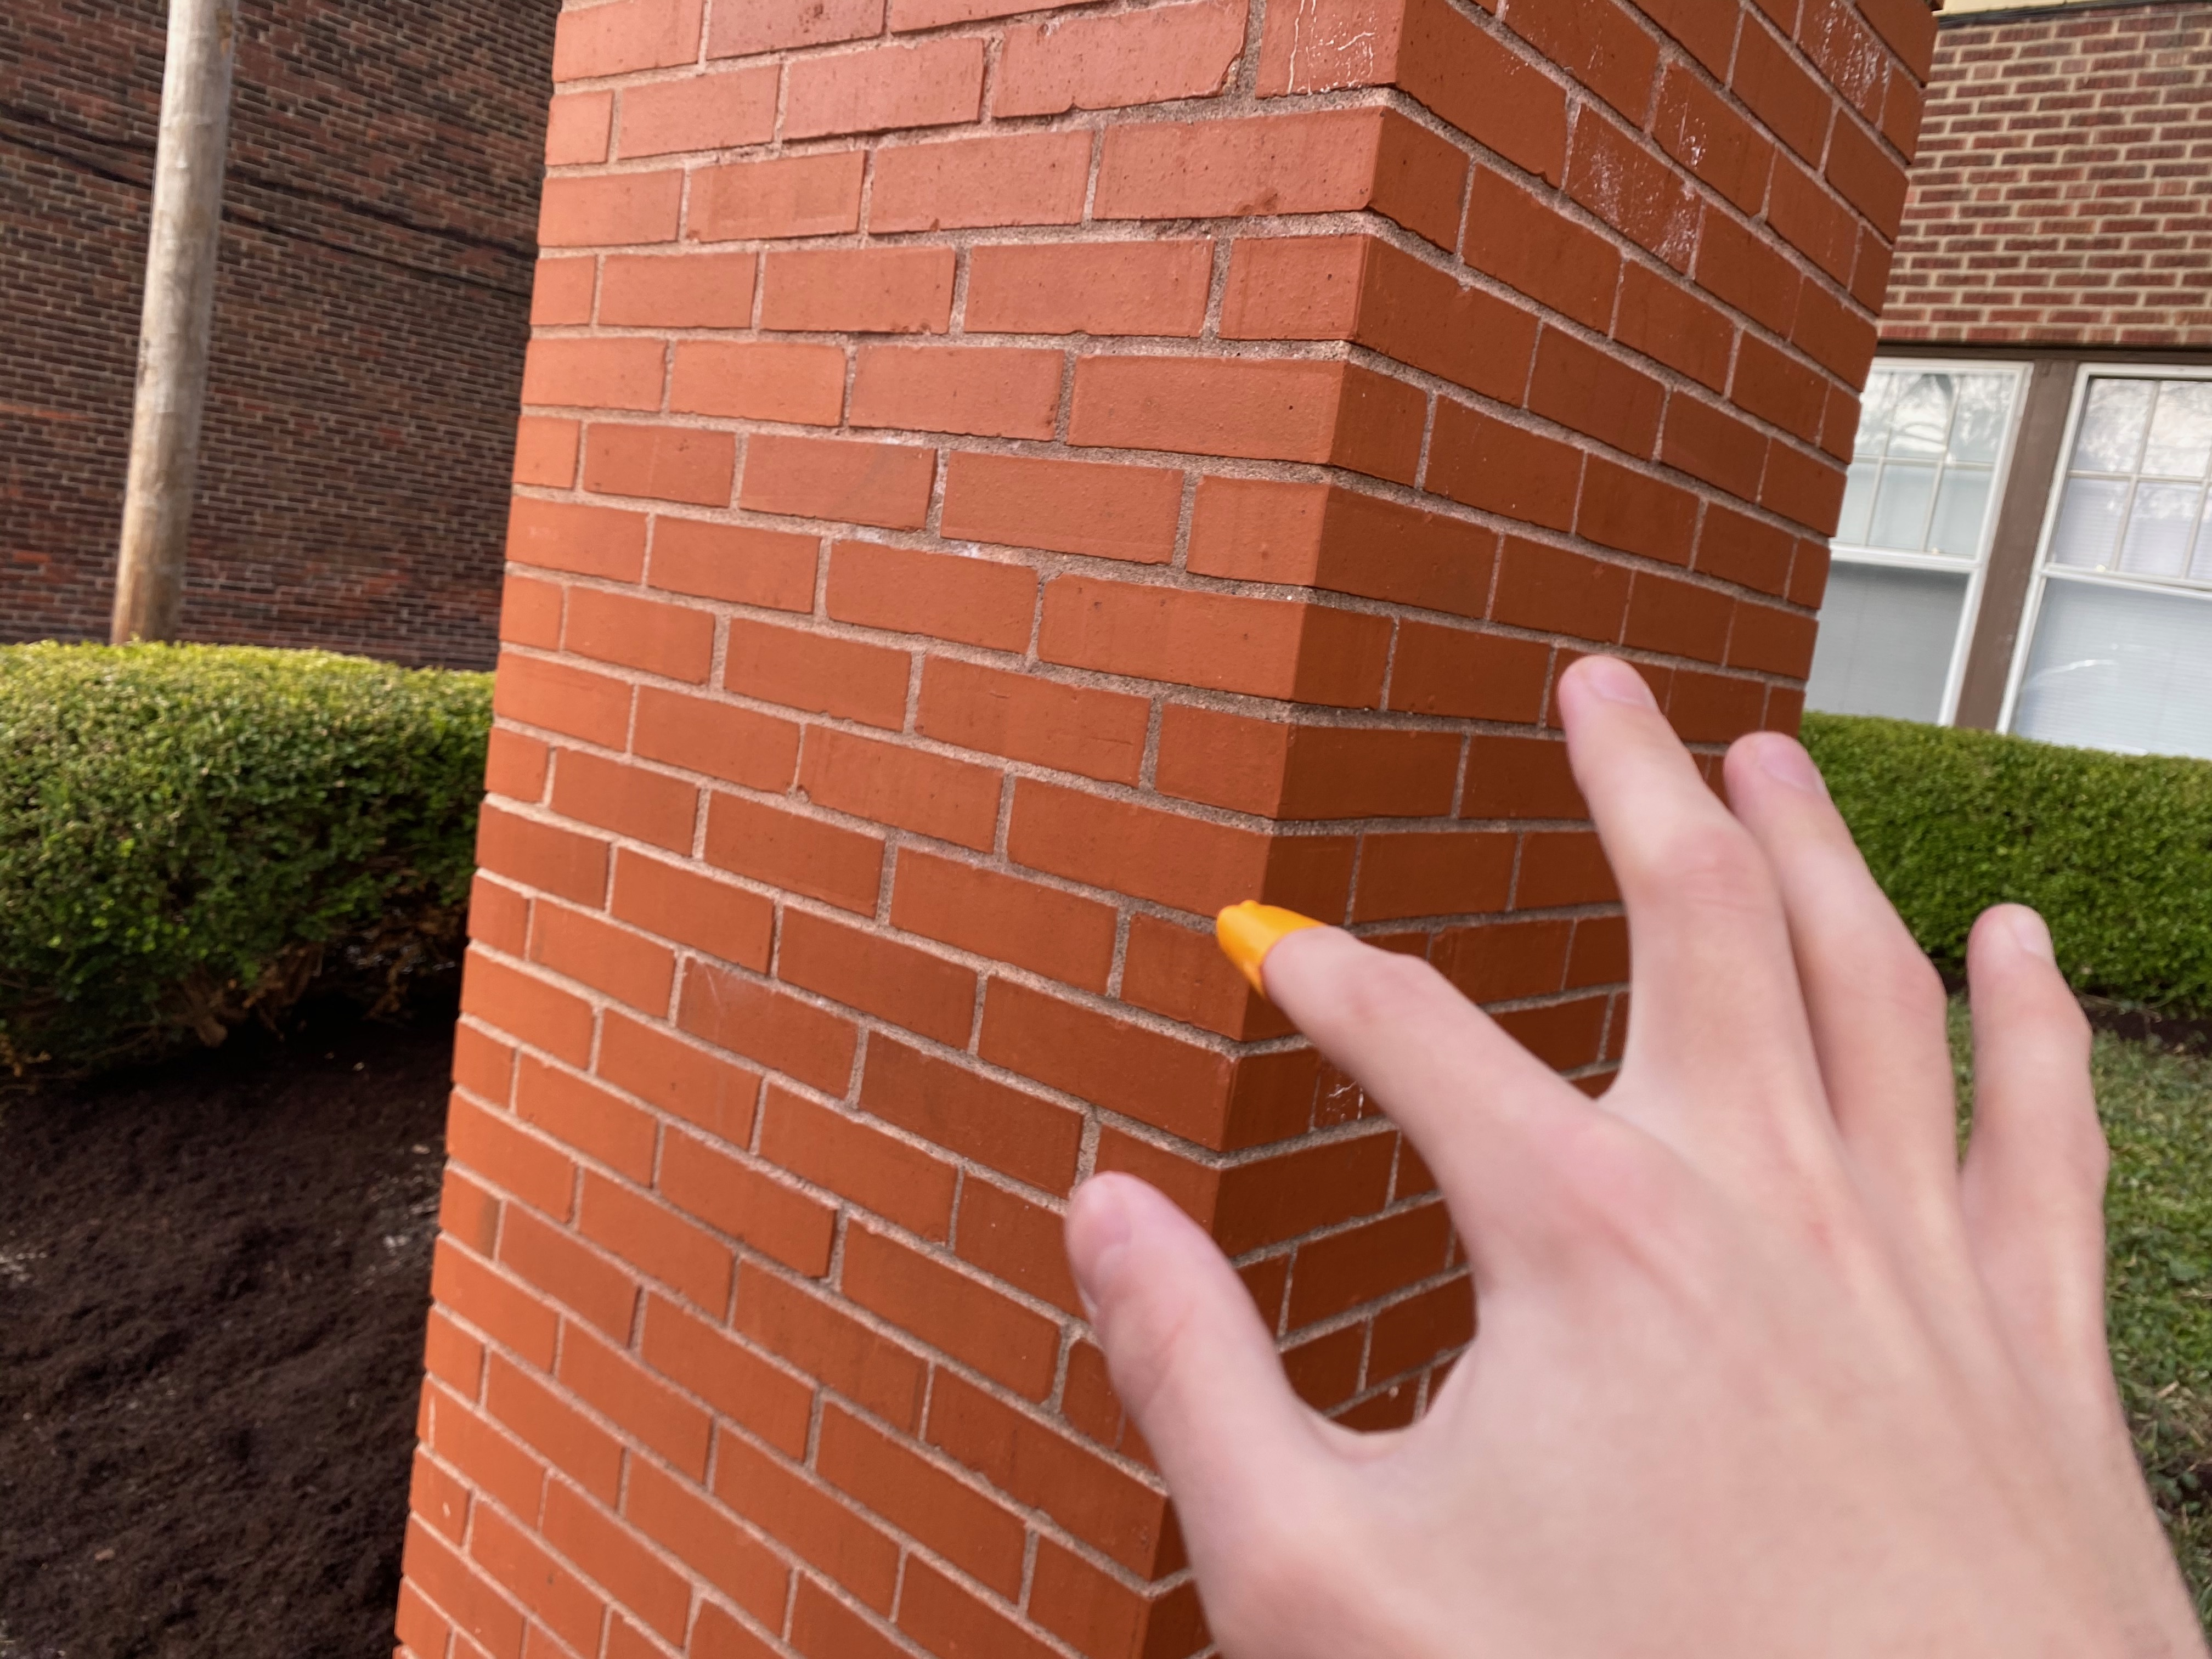fingertip: (1184, 887, 1325, 1012)
